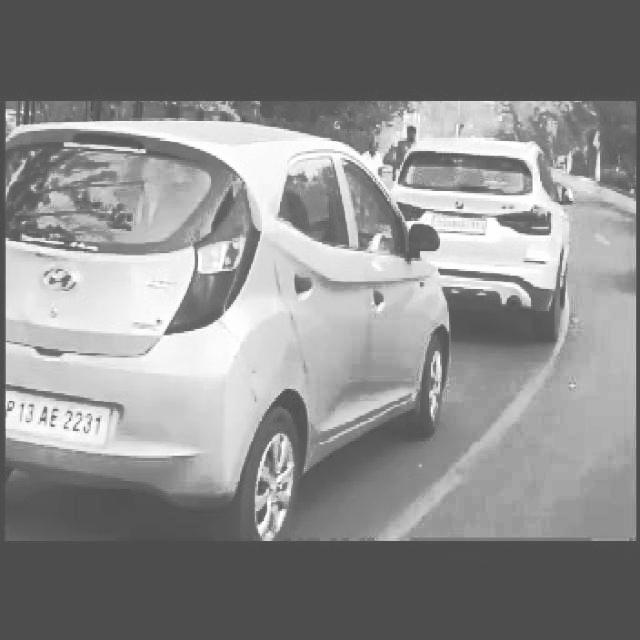Car: (6, 113, 408, 569), (422, 127, 588, 331)
